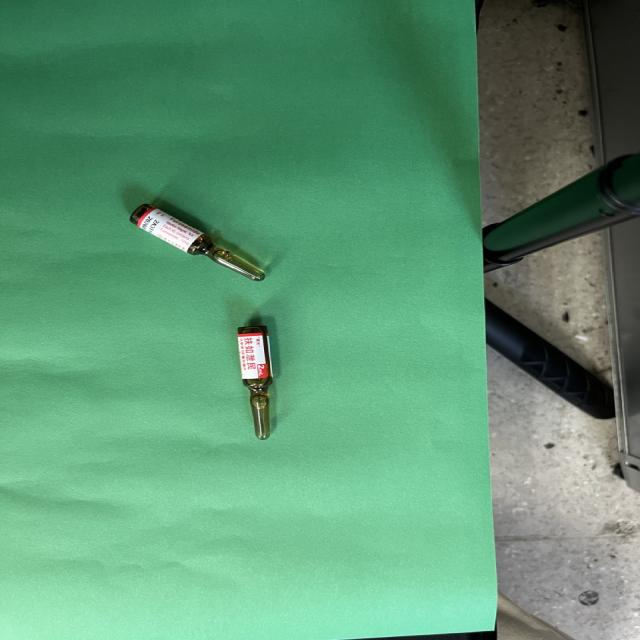Ampoules: (131, 204, 265, 282), (238, 326, 273, 440)
